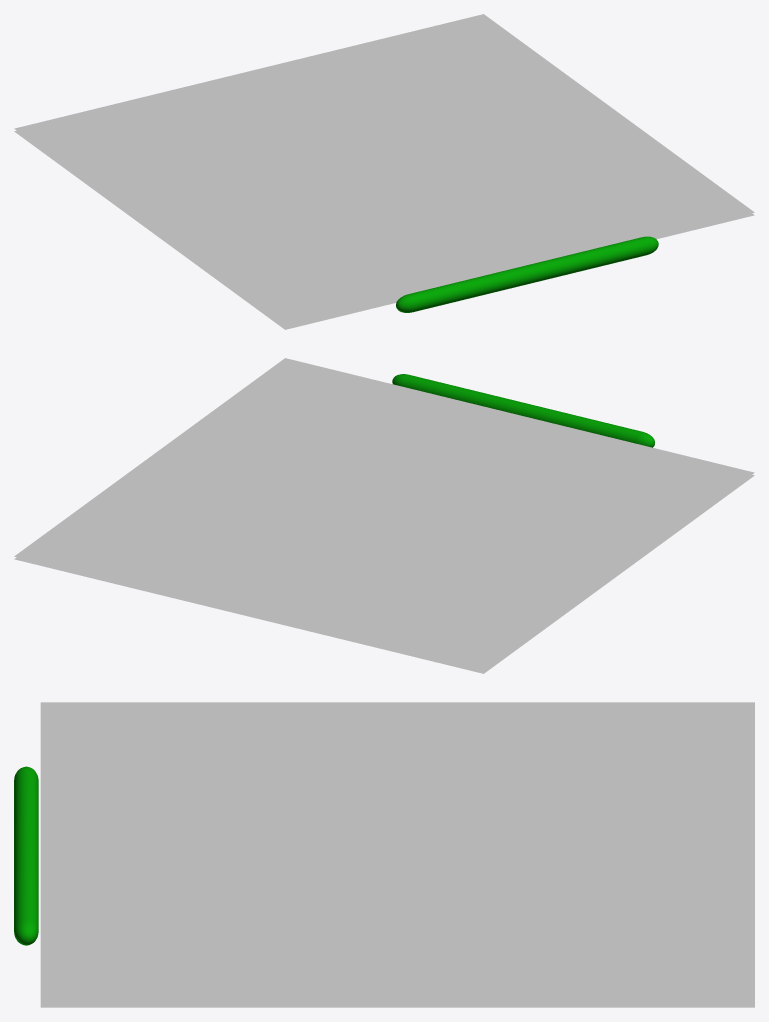
The model's file is pc_show.obj.
3 views of the same model, one above another, from view 1: azimuth 30°, elevation 25°; view 2: azimuth 150°, elevation 25°; view 3: azimuth 270°, elevation 25° (orthographic). The views are drawn at different scales.
Visible parts, largest first — view 1: 0FRONT_Plane.005, Cylinder, 0BACK_Plane.000_0FRONT_Plane.006; view 2: 0FRONT_Plane.005, Cylinder, 0BACK_Plane.000_0FRONT_Plane.006; view 3: 0FRONT_Plane.005, Cylinder, 0BACK_Plane.000_0FRONT_Plane.006.
Boxes of the visible parts, x1,y1,x2,y2 form: 0FRONT_Plane.005: (14,14,754,326); Cylinder: (396,236,658,312); 0BACK_Plane.000_0FRONT_Plane.006: (14,130,754,329); 0FRONT_Plane.005: (14,358,754,670); Cylinder: (392,374,654,447); 0BACK_Plane.000_0FRONT_Plane.006: (14,474,754,673); 0FRONT_Plane.005: (40,702,754,1003); Cylinder: (14,766,38,945); 0BACK_Plane.000_0FRONT_Plane.006: (40,1004,754,1007).
Size of the model in its own units: 3.58 by 0.1236 by 3.71.
